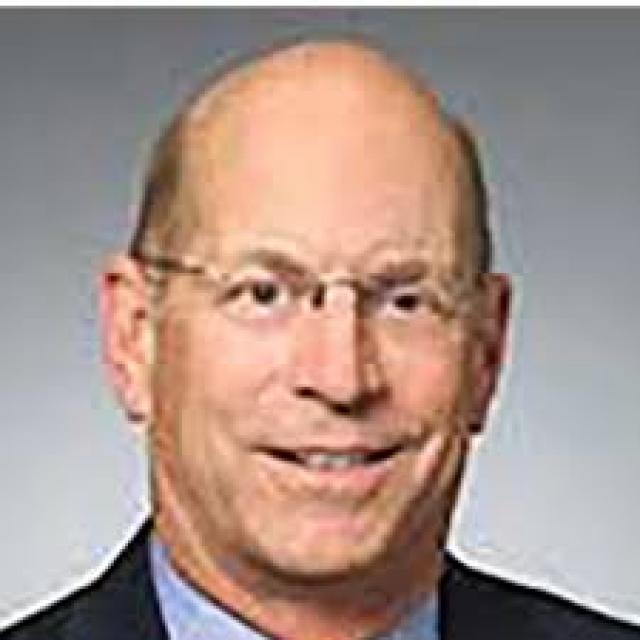stroke_face: (163, 73, 487, 580)
